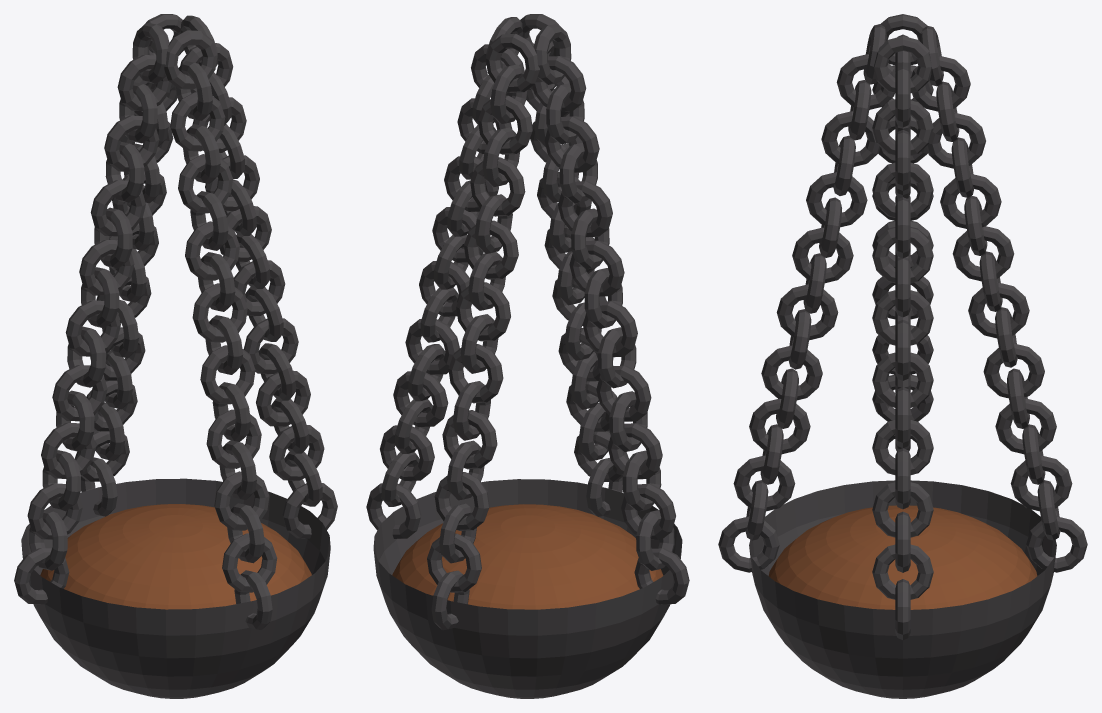
File: Hanging Plant Pot.obj
The picture shows the model from 3 angles, left to right: view 1: azimuth 30°, elevation 25°; view 2: azimuth 150°, elevation 25°; view 3: azimuth 270°, elevation 25°; orthographic projection.
Visible parts, largest first — view 1: Torus.035; view 2: Torus.035; view 3: Torus.035.
Part boxes in pixels (box(x1,y1,x2,y2)): Torus.035: box(14, 14, 337, 698); Torus.035: box(366, 14, 689, 698); Torus.035: box(718, 14, 1087, 698).
Bounding box in the file's own units: 2.4 × 4.73 × 2.4.
